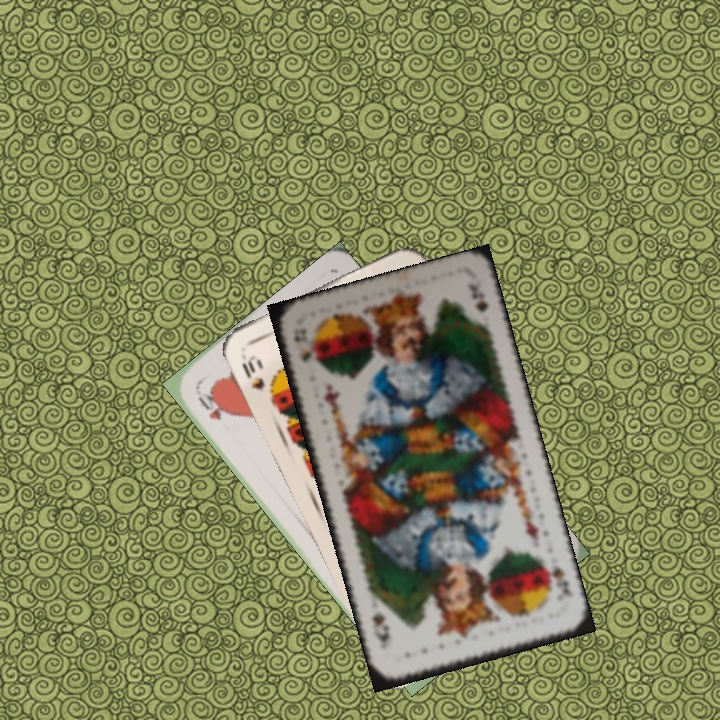HO: (193, 389, 230, 423)
S10: (238, 351, 268, 393)
SK: (539, 556, 575, 599), (289, 324, 315, 364)
